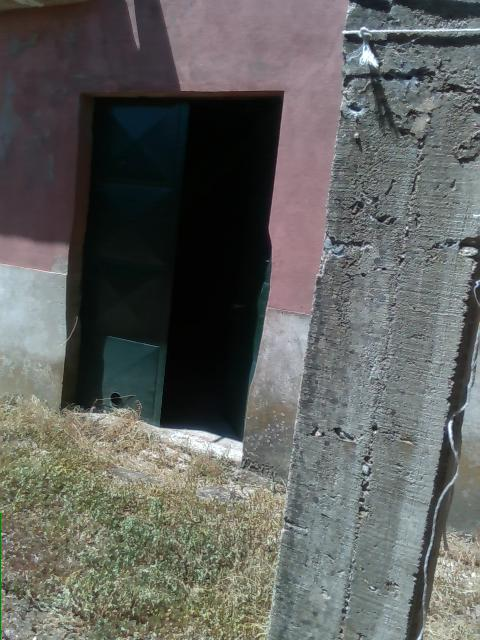open_door: (63, 90, 285, 453)
